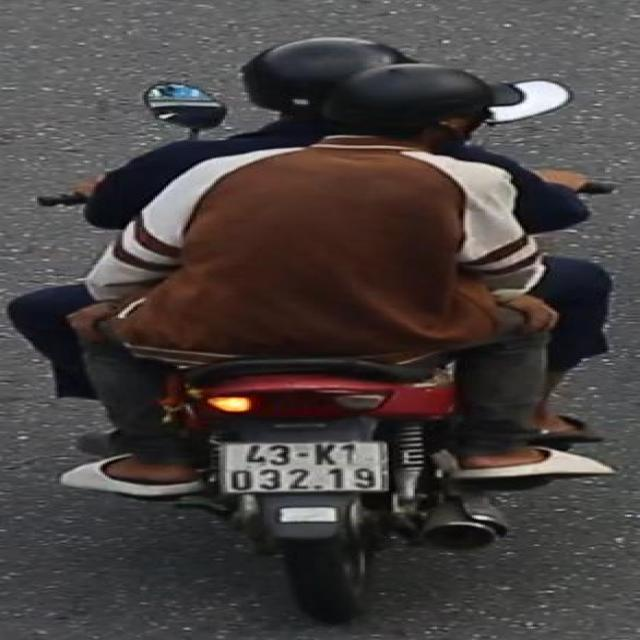LP: (210, 437, 395, 500)
helmet: (320, 62, 501, 158), (237, 32, 425, 124)
